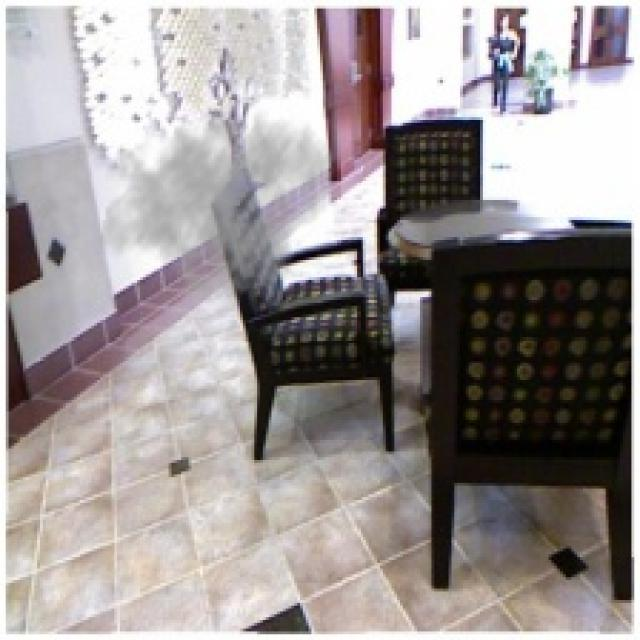smoke: (97, 88, 337, 312)
